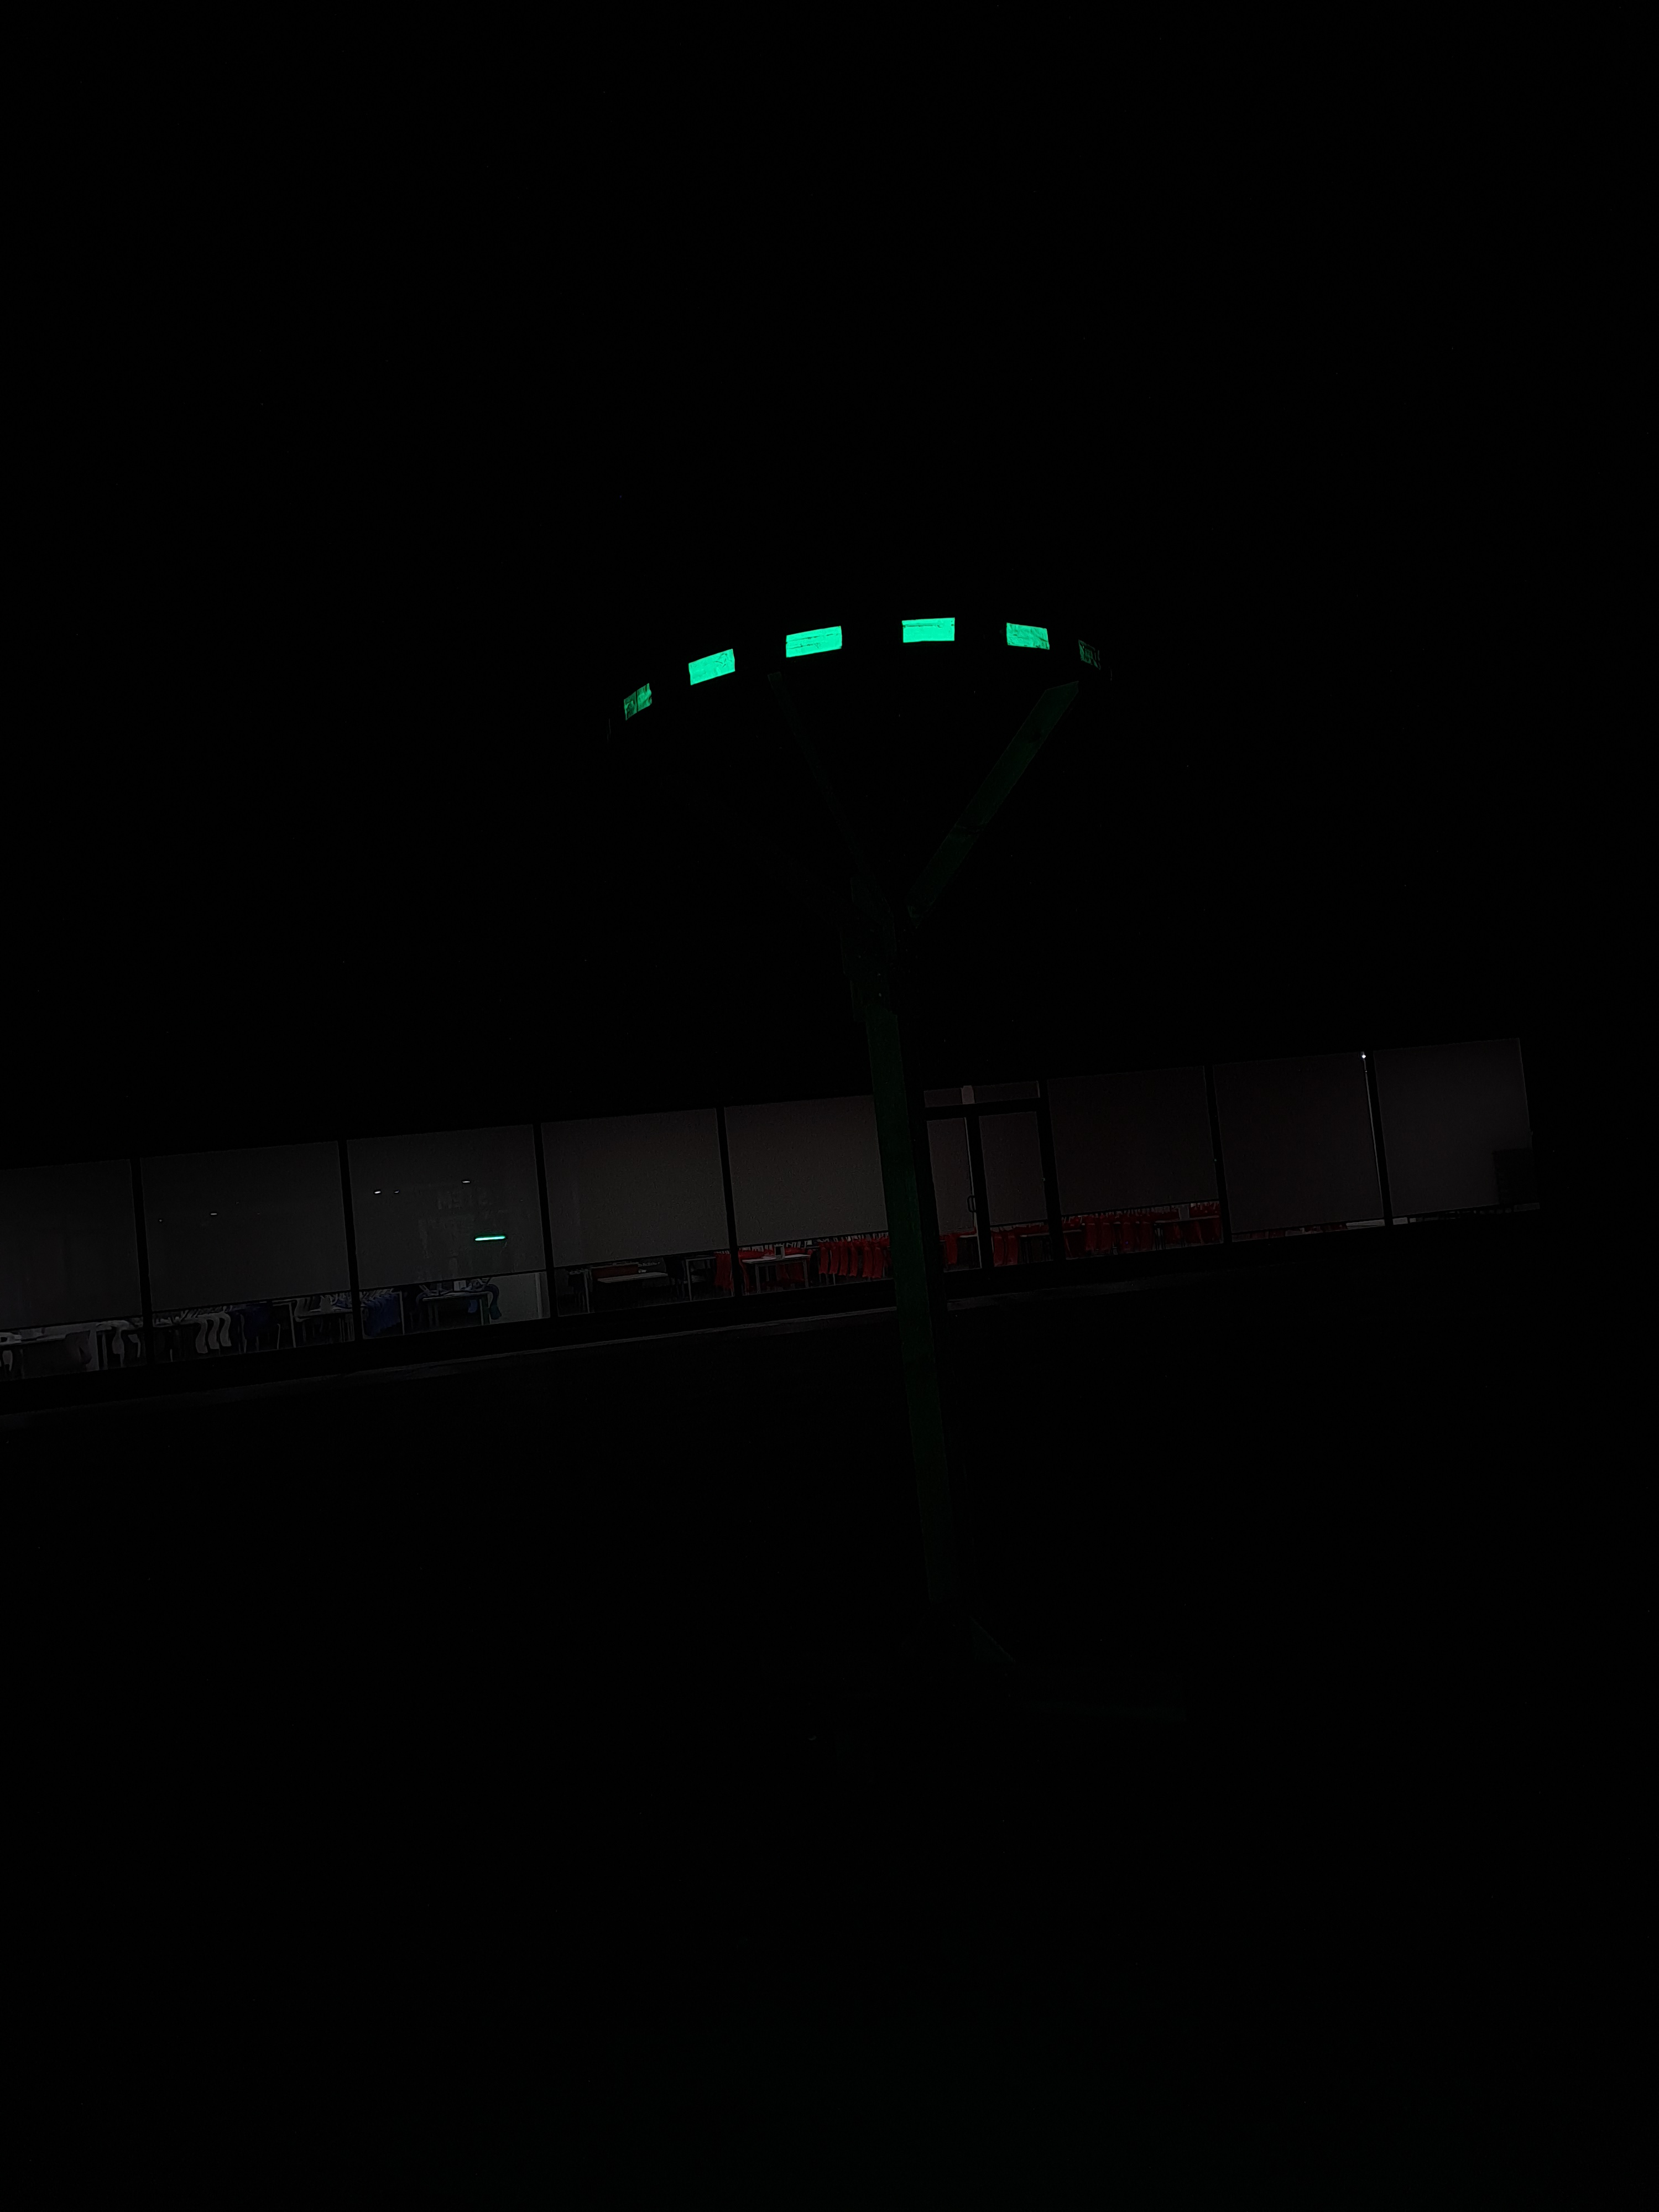hoop: (598, 620, 1105, 726)
